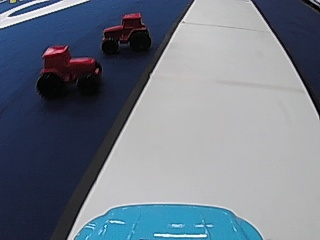tractor: (34, 42, 102, 98), (97, 11, 154, 53)
